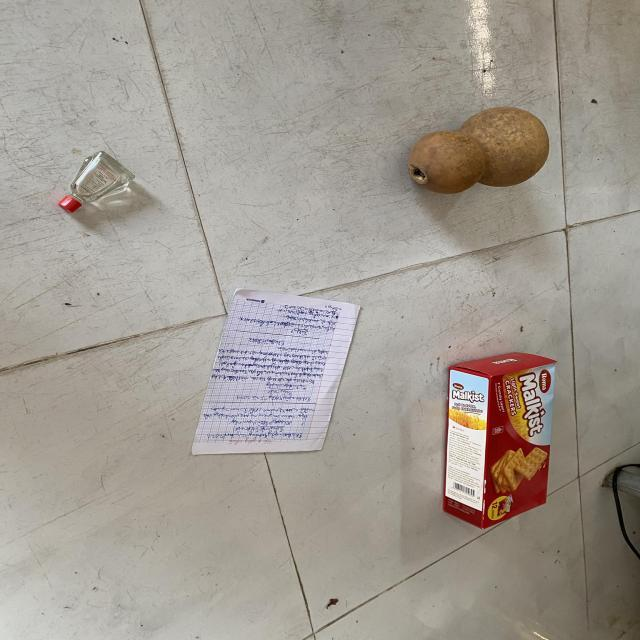foam box: (30, 136, 164, 232)
food: (185, 289, 368, 460)
plastic bag: (383, 105, 574, 196)
trash: (418, 323, 578, 542)
